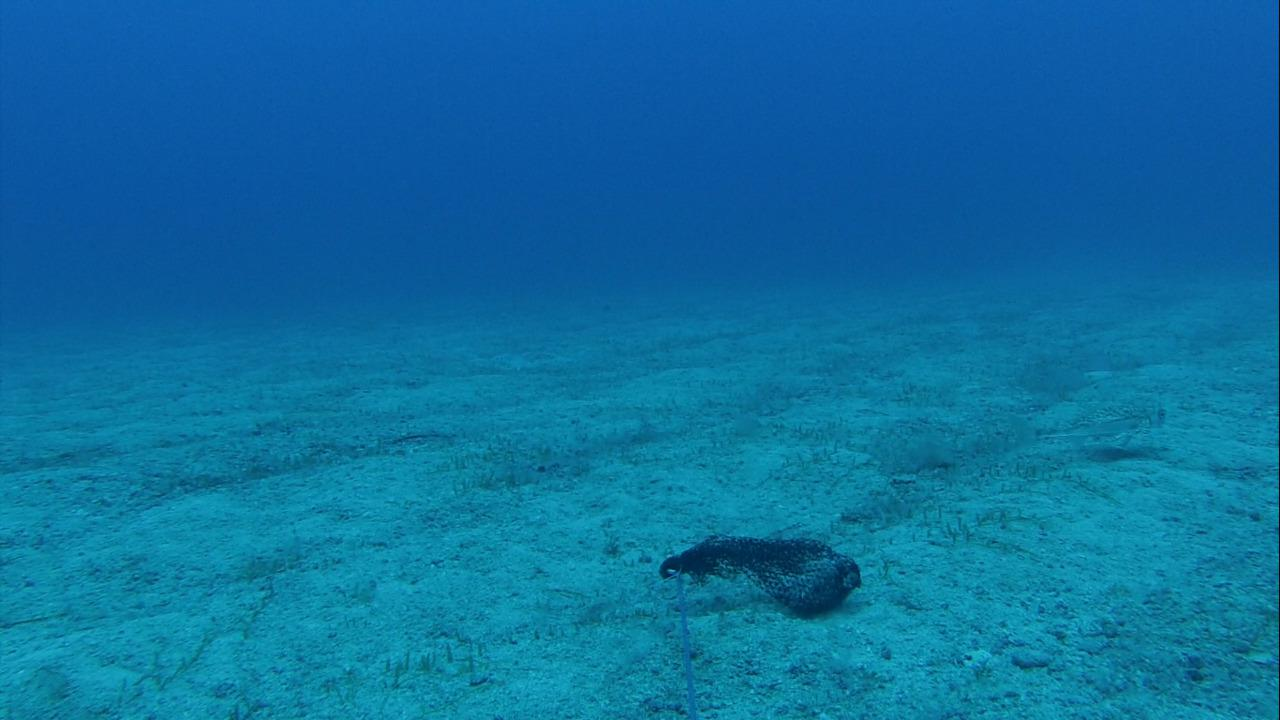dactylopterus: (1006, 387, 1172, 472)
